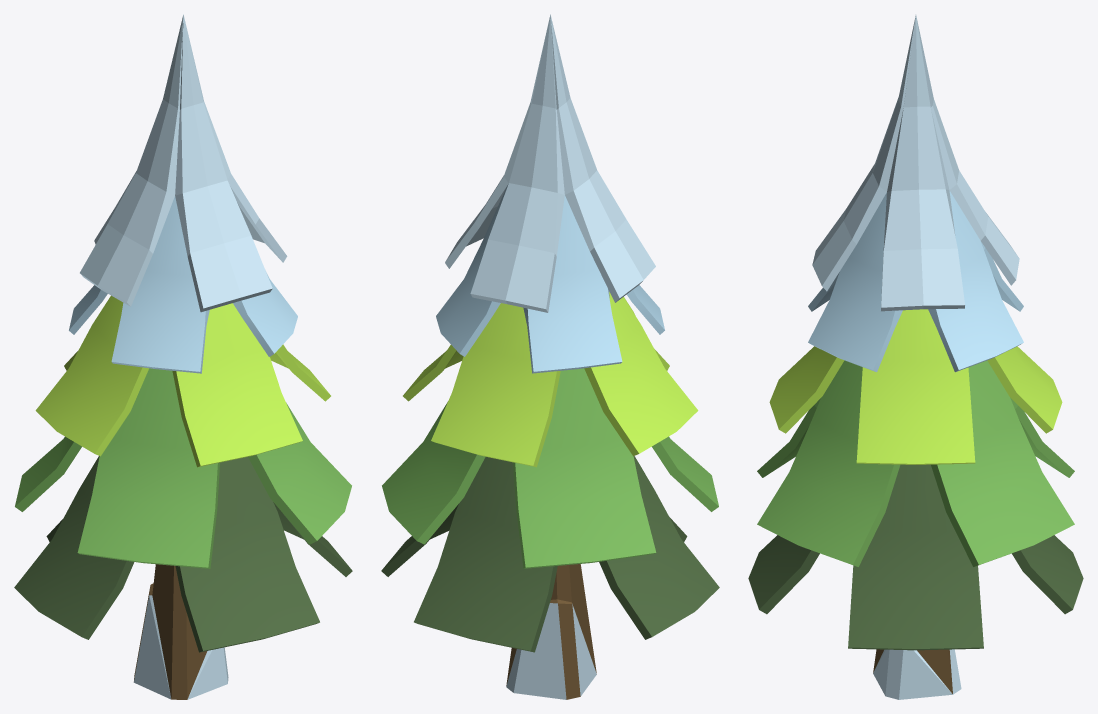
Rendered from model_polytope_snow_fern03.fbx.
3 renders of one model, left to right at view 1: azimuth 30°, elevation 25°; view 2: azimuth 150°, elevation 25°; view 3: azimuth 270°, elevation 25°, orthographic.
Visible parts, largest first — view 1: model_polytope_snow_fern01; view 2: model_polytope_snow_fern01; view 3: model_polytope_snow_fern01.
Boxes of the visible parts, <box> form: model_polytope_snow_fern01: <box>14,14,352,699</box>; model_polytope_snow_fern01: <box>381,14,719,699</box>; model_polytope_snow_fern01: <box>748,15,1083,699</box>.
Size of the model in its own units: 202 by 445 by 202.
Materials: 1 (1 with a texture image).
